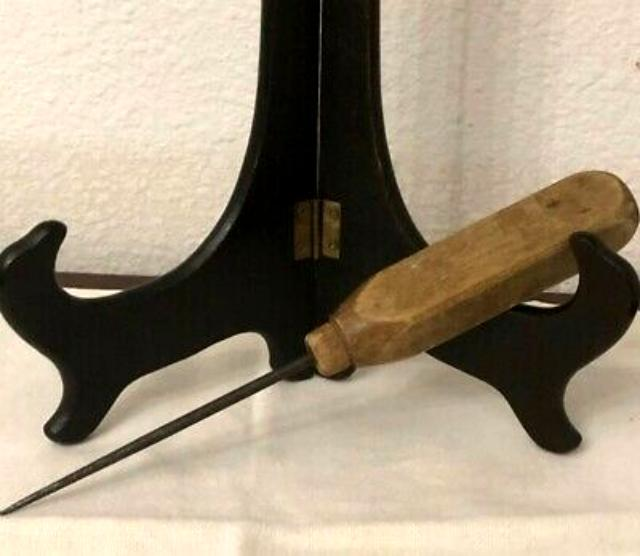ice pick: (0, 169, 638, 520)
